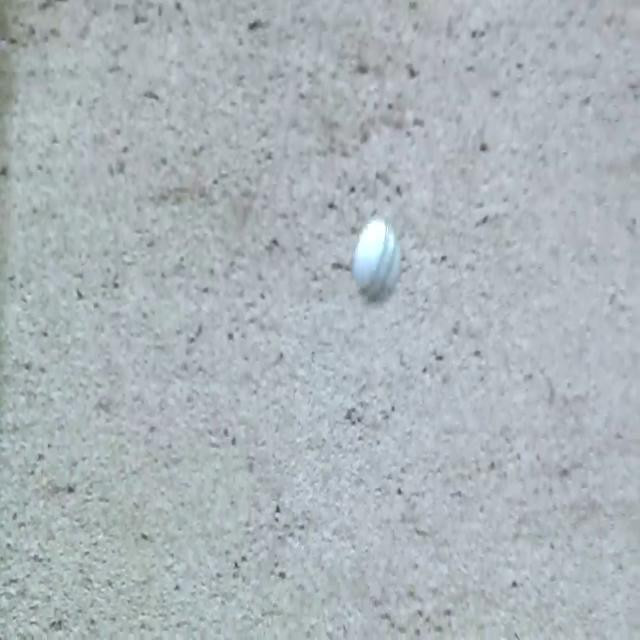ball: (353, 207, 403, 318)
